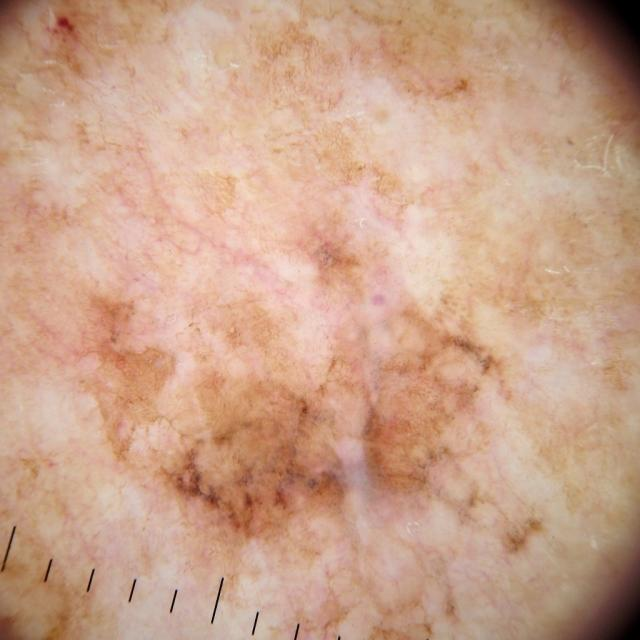Skin-Cancer Melanoma: (1, 0, 625, 640)
